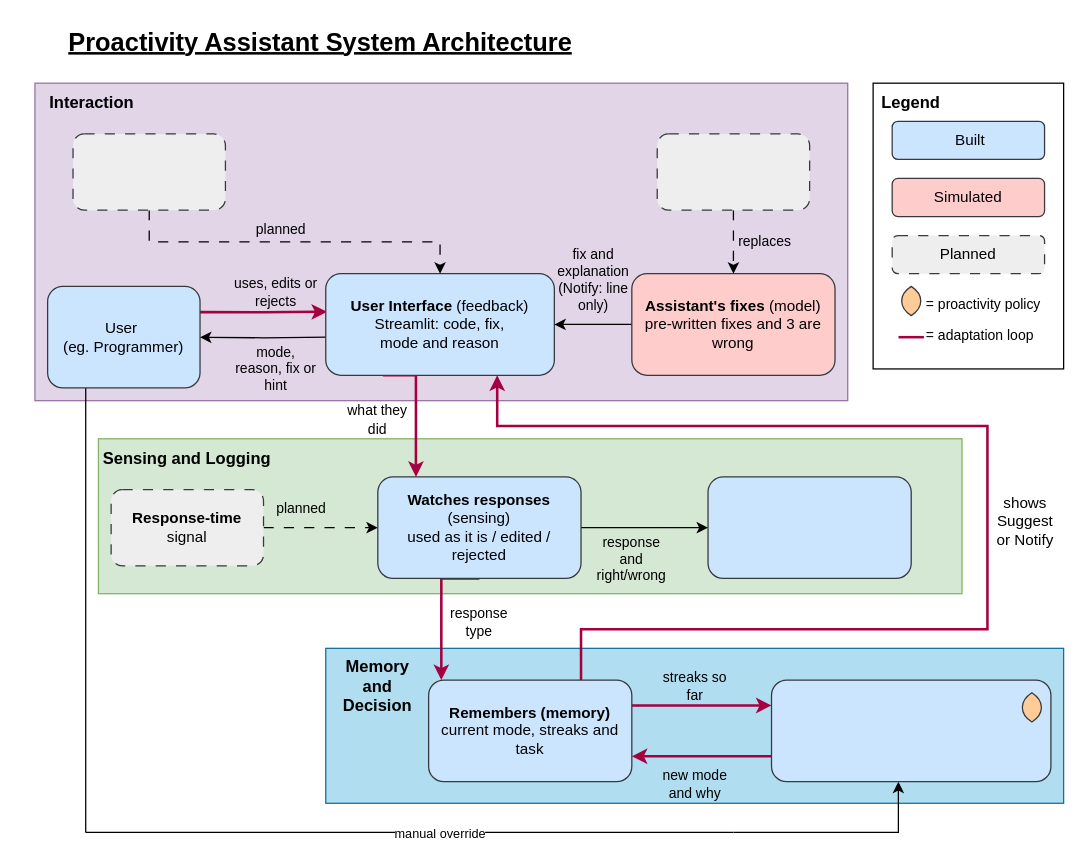
Image size: 1086x865. Some labels were removed from this diagram. The shapes that lost their labels are listed below. From the top down, each one's box as (x1, y1, x2, y2) in pixels, then its label:
(72, 133, 225, 210): Code editor plug-in (planned)
(656, 133, 810, 210): Live AI generates fixes (planned)
(707, 476, 911, 578): Activity log tracks every action and wrong fixes used
(770, 679, 1051, 782): Proactivity policy (decision) 3 used as it is -> Notify 2 are checked -> Suggest
